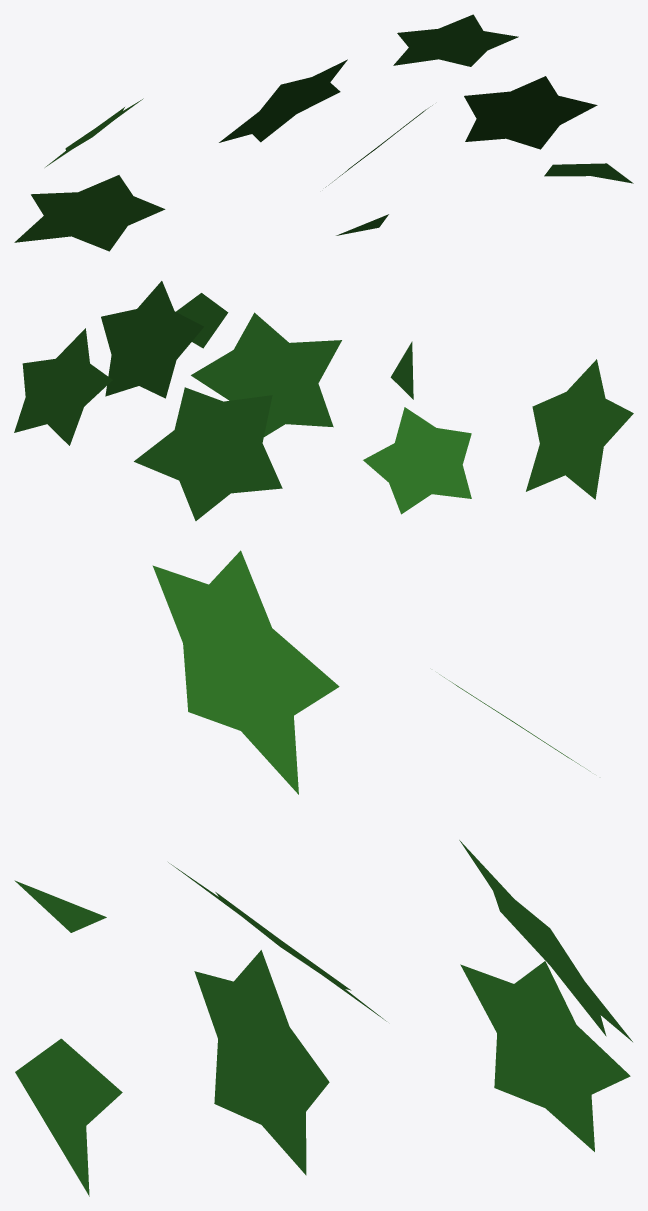
3 views of the same model, one above another, from view 1: azimuth 30°, elevation 25°; view 2: azimuth 150°, elevation 25°; view 3: azimuth 270°, elevation 25° (orthographic). The views are drawn at different scales.
Parts seen in each view (by area): view 1: r5c5_l01; view 2: r5c5_l01; view 3: r5c5_l01.
Part boxes in pixels (x1=…): r5c5_l01: x1=14, y1=14, x2=633, y2=251; r5c5_l01: x1=14, y1=281, x2=633, y2=520; r5c5_l01: x1=14, y1=550, x2=632, y2=1196.
Bounding box in the file's own units: 1.57 × 0.3638 × 0.8553.
